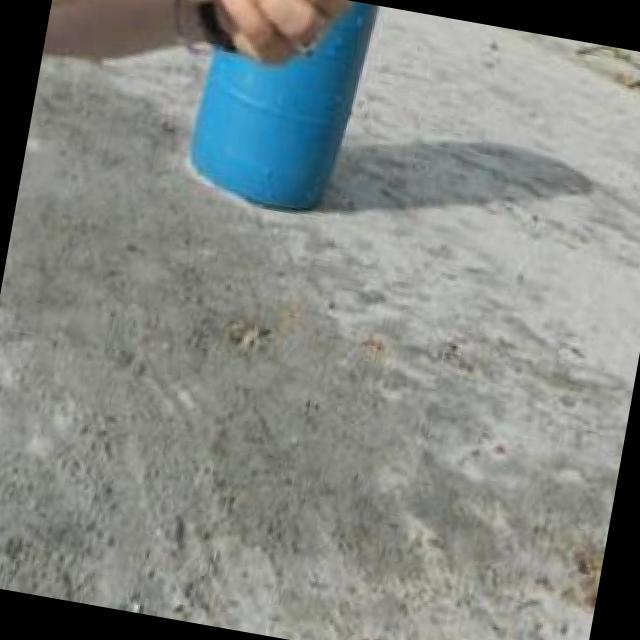Guns: (157, 0, 549, 135)
